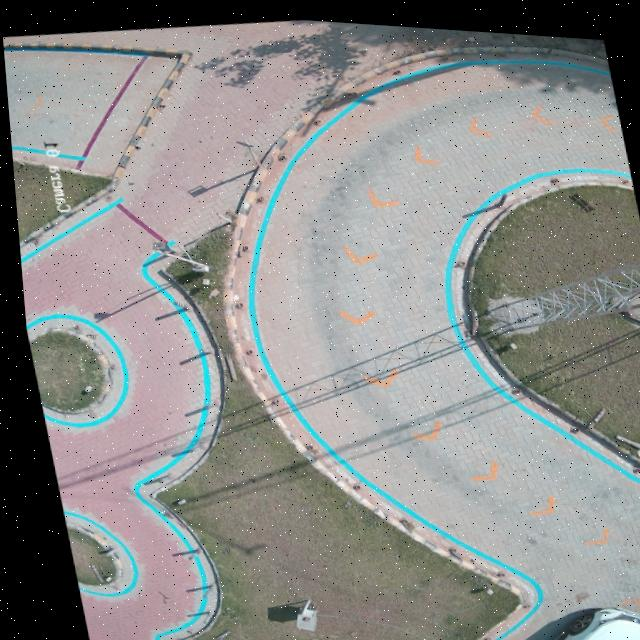car: (534, 599, 640, 640)
